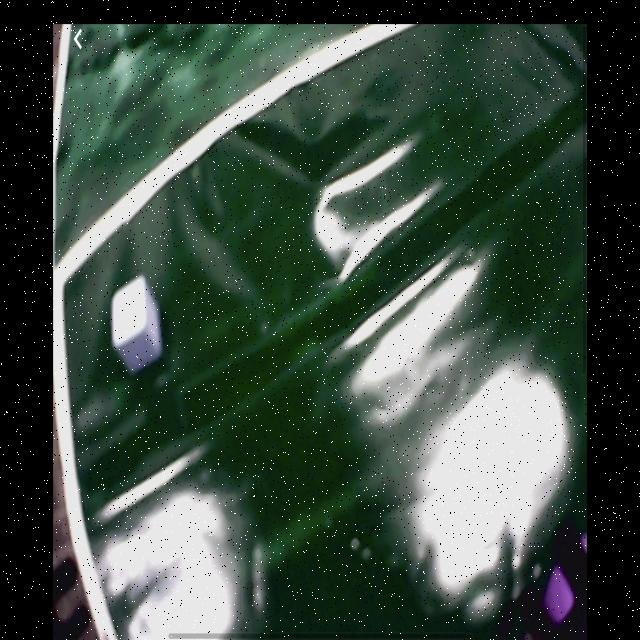ball: (547, 536, 591, 633)
